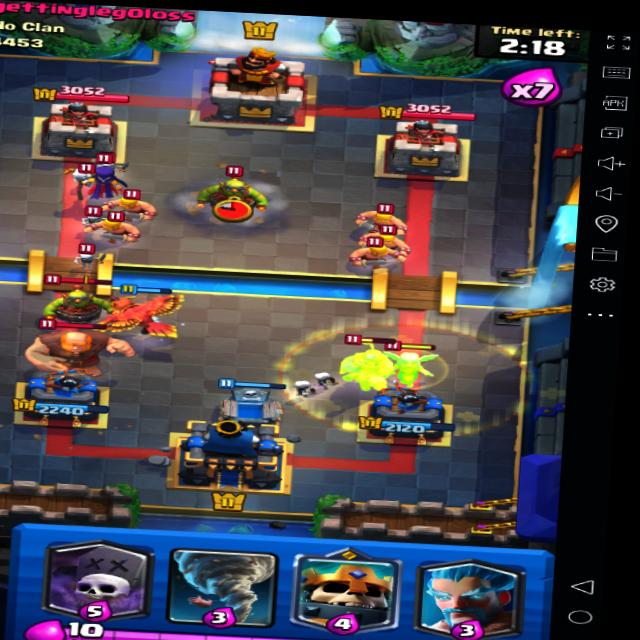barbarian: (99, 187, 167, 218), (348, 231, 404, 267), (354, 201, 411, 236), (89, 208, 141, 244), (357, 223, 412, 257)
battle-healer: (372, 336, 448, 384)
giant: (22, 309, 124, 374)
goblin-demolisher: (185, 164, 277, 221), (44, 285, 117, 321)
prince: (343, 335, 419, 394)
skeleton: (74, 206, 111, 233), (89, 175, 115, 196), (75, 247, 101, 267), (94, 155, 123, 171)
witch: (71, 155, 136, 204)
